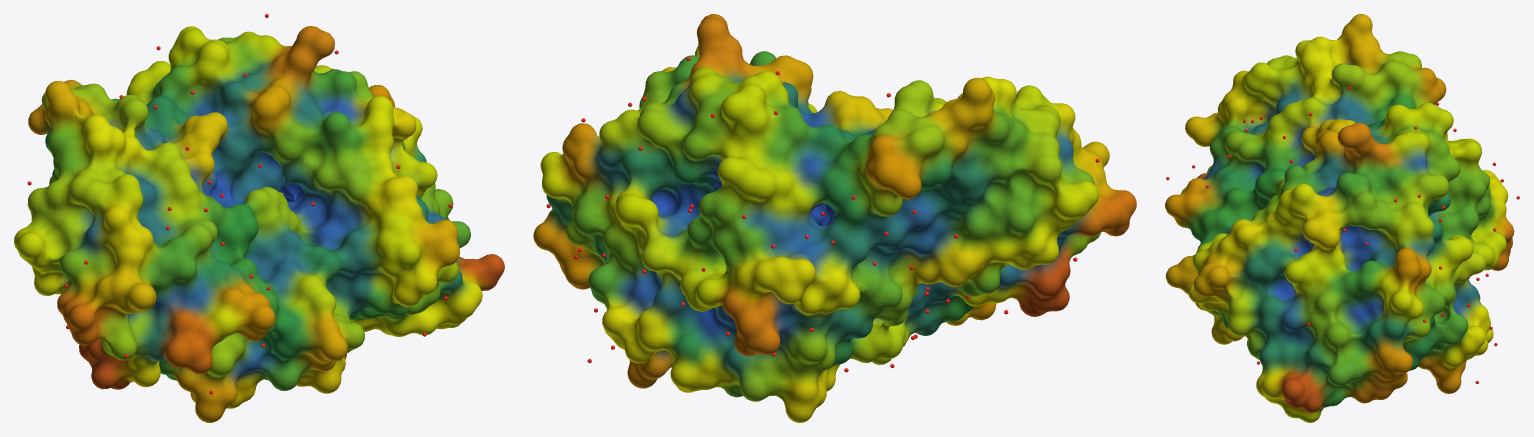
Rendered from pokeweed_antiviral_protein.glb.
3 views of the same model, side by side, from view 1: azimuth 30°, elevation 25°; view 2: azimuth 150°, elevation 25°; view 3: azimuth 270°, elevation 25° (orthographic). The views are drawn at different scales.
Parts seen in each view (by area): view 1: Object_12, Object_13, Object_4; view 2: Object_12, Object_13, Object_4; view 3: Object_12, Object_13, Object_4.
Part boxes in pixels (x1,y1,x2,y2): Object_12: (14, 26, 504, 422); Object_13: (28, 81, 229, 421); Object_4: (27, 14, 452, 394); Object_12: (533, 14, 1136, 422); Object_13: (791, 76, 1051, 341); Object_4: (546, 57, 1099, 372); Object_12: (1165, 14, 1514, 422); Object_13: (1186, 22, 1444, 174); Object_4: (1166, 86, 1519, 383).
Size of the model in its own units: 63.63 by 41.79 by 48.05.
